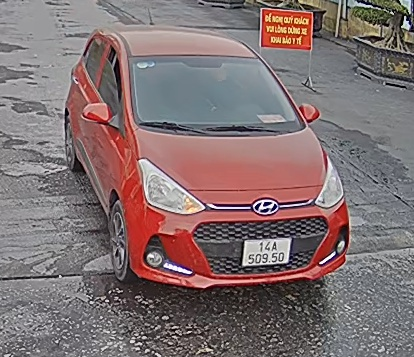vehicle plate: (237, 233, 296, 268)
